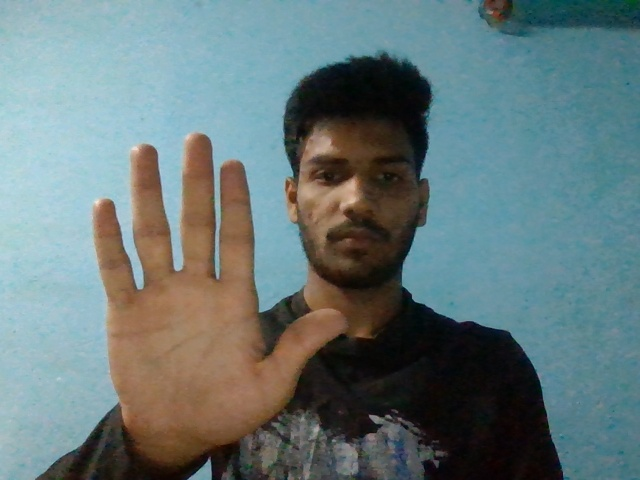Hello: (92, 132, 348, 445)
